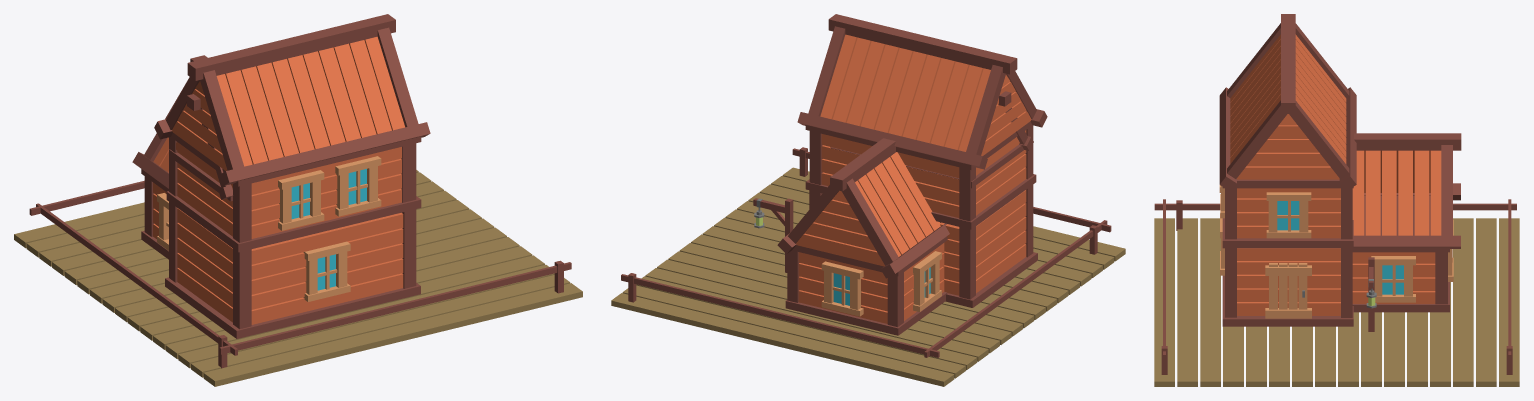
File: SmallHouseOnHill.glb
3 renders of one model, left to right at view 1: azimuth 30°, elevation 25°; view 2: azimuth 150°, elevation 25°; view 3: azimuth 270°, elevation 25°, orthographic. The views are drawn at different scales.
Parts seen in each view (by area): view 1: Cube.010, Cube.017, Cube.001, Cube.057, Cube.061, Cube.014, Cube.013, Cube.073, Cube.019, Cube.065, Cube.025, Cube.050 (+5 smaller); view 2: Cube.010, Cube.017, Cube.050, Cube.057, Cube.001, Cube.044, Cube.052, Cube.063, Cube.015, Cube.019, Cube.065, Cube.048 (+4 smaller); view 3: Cube.010, Cube.017, Cube.050, Cube.001, Cube.057, Cube.044, Cube.016, Cube.018, Cube.011, Cube.002, Cube.025, Cube.053 (+4 smaller).
Part boxes in pixels (x1,y1,x2,y2): Cube.010: (14,170,582,386); Cube.017: (154,14,430,185); Cube.001: (165,202,420,338); Cube.057: (166,137,421,252); Cube.061: (219,262,571,354); Cube.014: (303,241,350,301); Cube.013: (278,170,324,230); Cube.073: (335,156,381,216); Cube.019: (172,81,227,170); Cube.065: (36,203,237,355); Cube.025: (171,133,421,186); Cube.050: (132,55,207,188); Cube.010: (611,167,1125,386); Cube.017: (797,14,1047,169); Cube.050: (777,138,949,278); Cube.057: (805,125,1036,229); Cube.001: (809,184,1037,307); Cube.044: (785,243,947,335); Cube.052: (796,190,884,266); Cube.063: (621,274,939,357); Cube.015: (821,261,863,316); Cube.019: (981,75,1031,155); Cube.065: (924,220,1107,357); Cube.048: (913,251,941,311); Cube.010: (1154,218,1519,386); Cube.017: (1219,14,1356,191); Cube.050: (1352,133,1461,248); Cube.001: (1222,248,1353,326); Cube.057: (1222,188,1353,248); Cube.044: (1352,252,1449,312); Cube.016: (1236,114,1339,179); Cube.018: (1265,263,1311,318); Cube.011: (1266,192,1311,238); Cube.002: (1371,256,1415,302); Cube.025: (1222,179,1353,188); Cube.053: (1352,195,1449,252).
Bounding box in the file's own units: 65.82 × 43.59 × 62.26.
